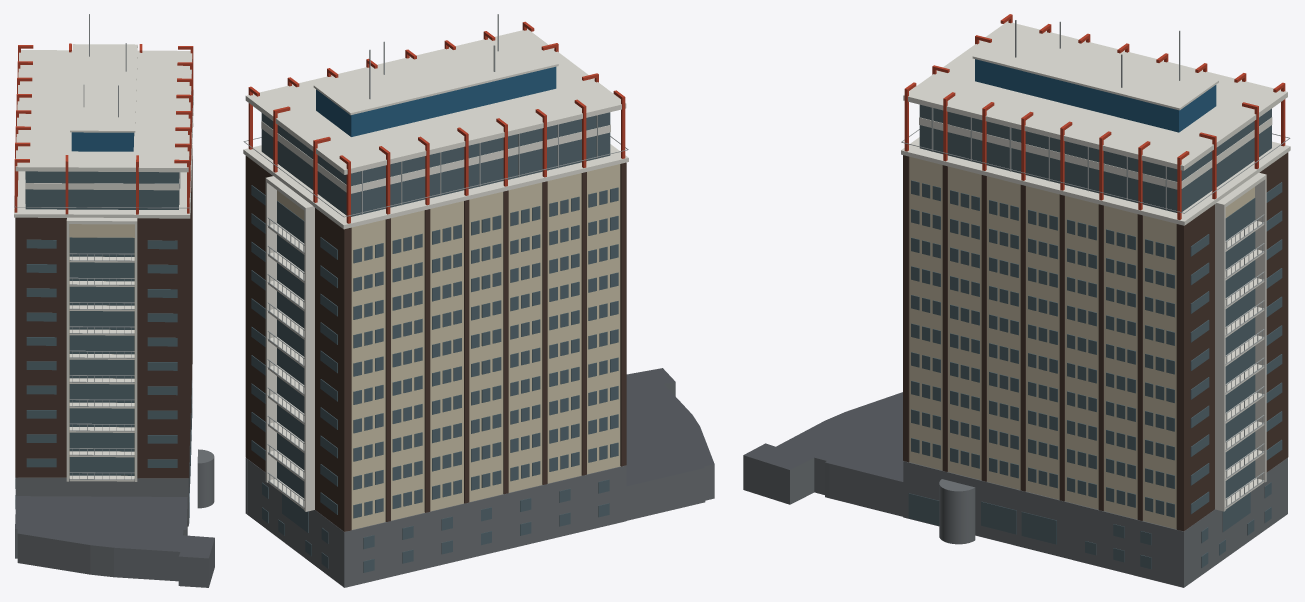
File: havengebouw.glb
3 views of the same model, side by side, from view 1: azimuth 30°, elevation 25°; view 2: azimuth 150°, elevation 25°; view 3: azimuth 270°, elevation 25° (orthographic). The views are drawn at different scales.
Parts seen in each view (by area): view 1: havengebouw; view 2: havengebouw; view 3: havengebouw.
Boxes of the visible parts, left/top/right/bottom form: havengebouw: left=14, top=14, right=214, bottom=587; havengebouw: left=243, top=14, right=714, bottom=587; havengebouw: left=743, top=14, right=1290, bottom=587.
Size of the model in its own units: 43.23 by 60.05 by 59.95.
